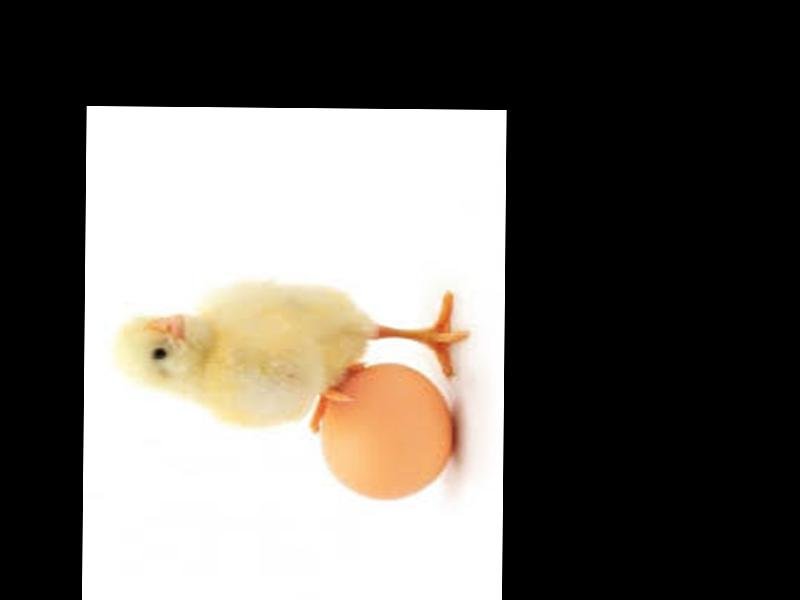Eggs: (314, 360, 453, 502)
